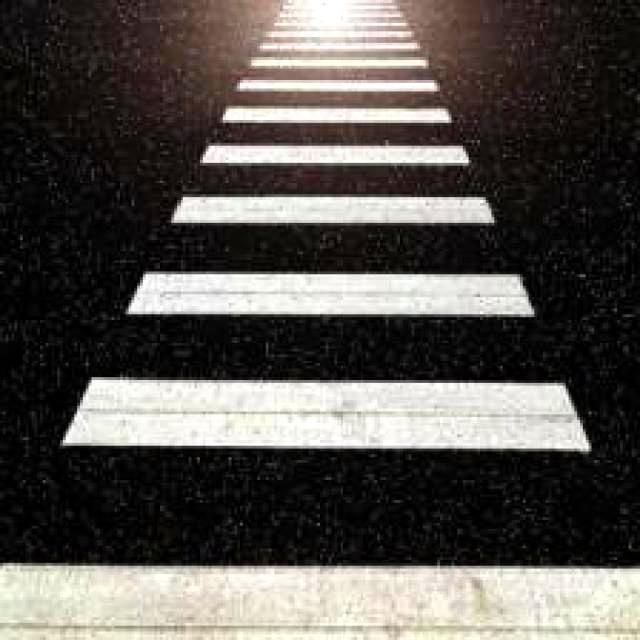crosswalk: (3, 2, 634, 639)
